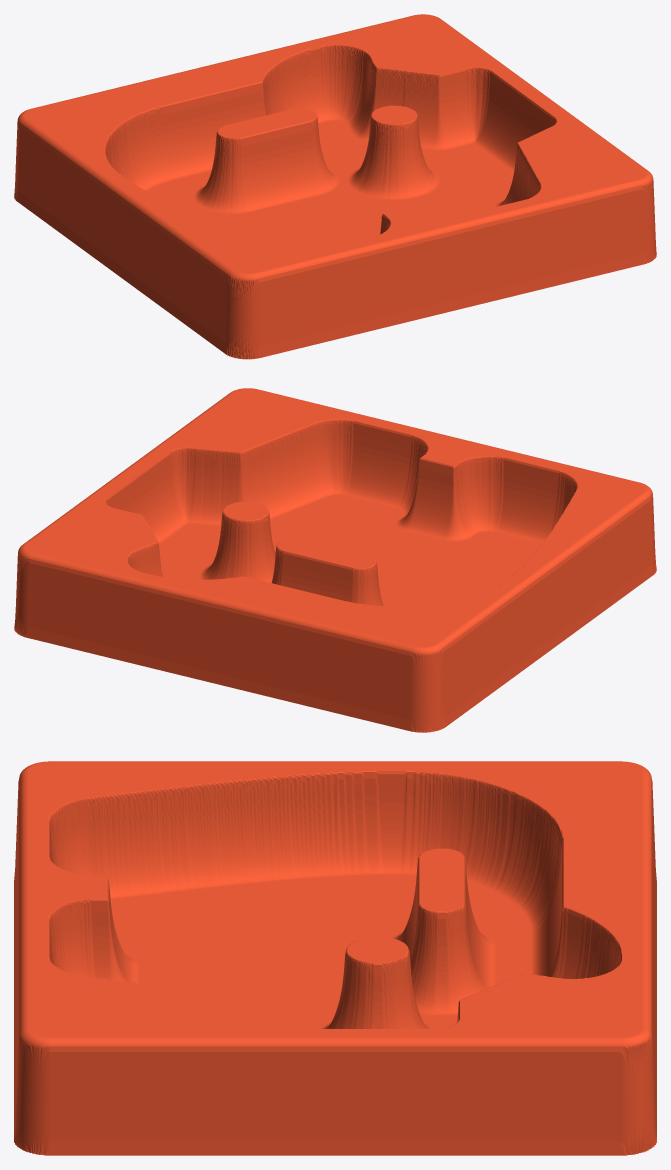
The model's file is mold.glb.
3 views of the same model, one above another, from view 1: azimuth 30°, elevation 25°; view 2: azimuth 150°, elevation 25°; view 3: azimuth 270°, elevation 25° (orthographic). The views are drawn at different scales.
Parts seen in each view (by area): view 1: geometry_0; view 2: geometry_0; view 3: geometry_0.
Boxes of the visible parts, x1,y1,x2,y2 form: geometry_0: (14, 14, 656, 359); geometry_0: (14, 388, 656, 732); geometry_0: (14, 761, 656, 1155).
Size of the model in its own units: 0.1709 by 0.031 by 0.1615.
